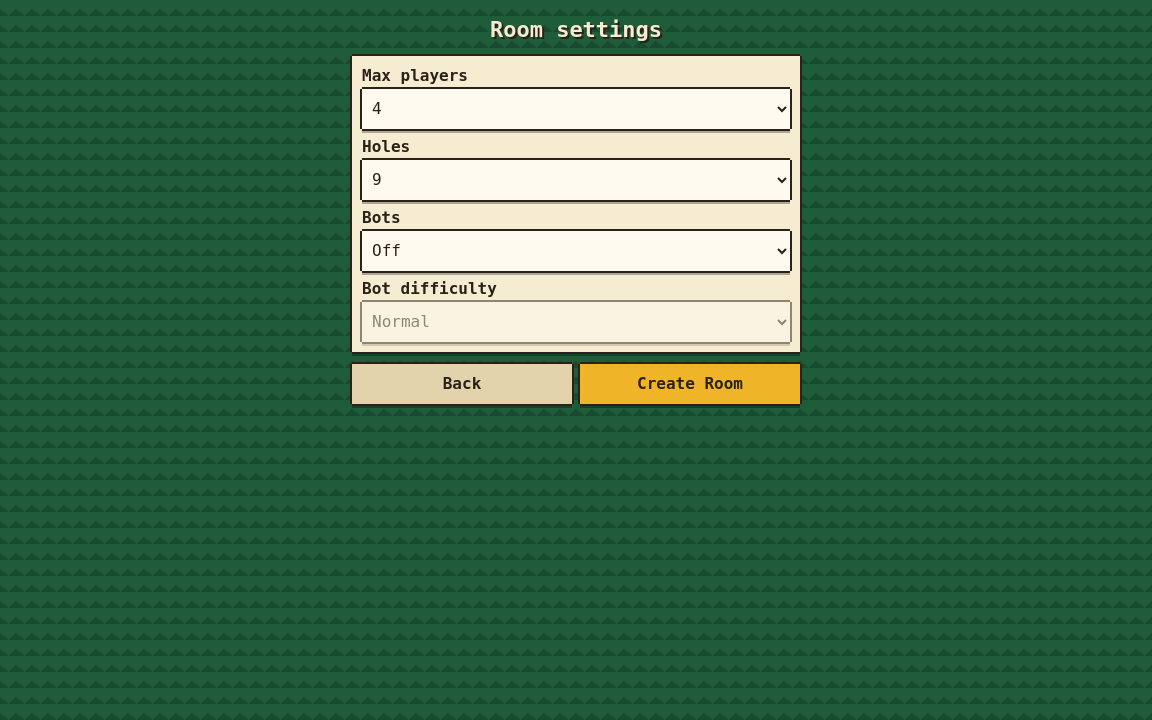
Test case: room settings › only allows a bot difficulty when bots are on
The width and height of the screenshot is (1152, 720).
Expected: the dropdown labelled "Bot difficulty" is disabled, [362,302,790,342]
Select "On" in the dropdown labelled "Bots" at [576, 250], box [362,230,790,270]
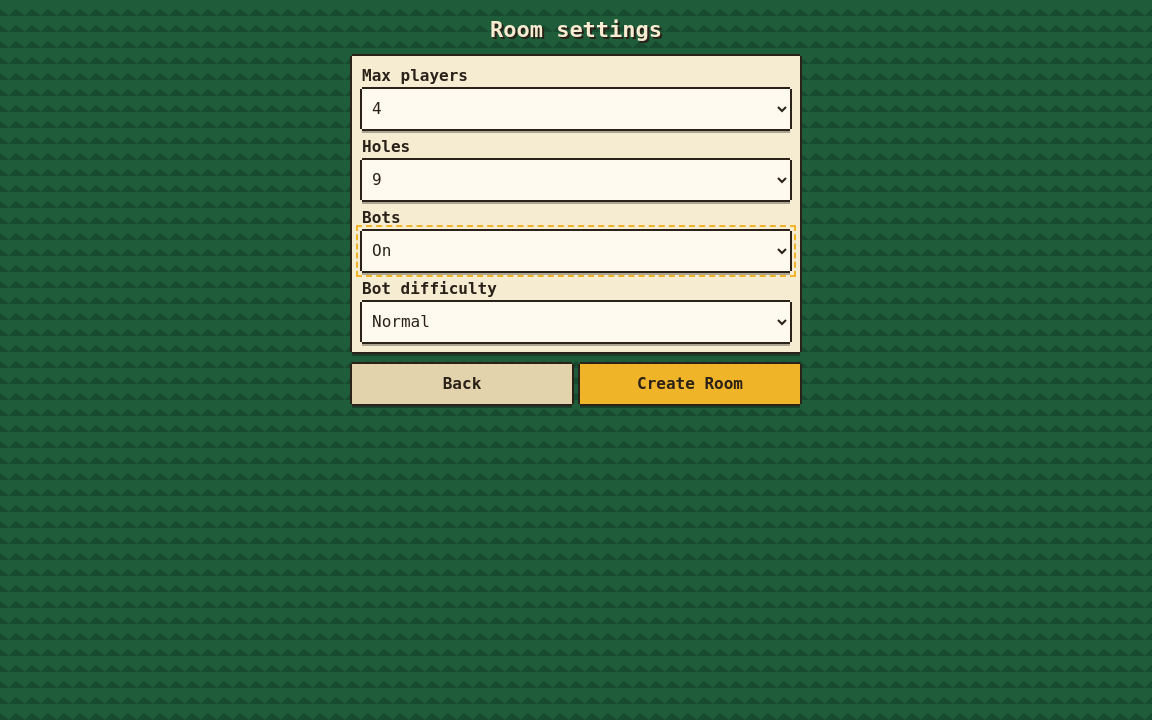
Now the dropdown labelled "Bot difficulty" is enabled, box [362,302,790,342]
